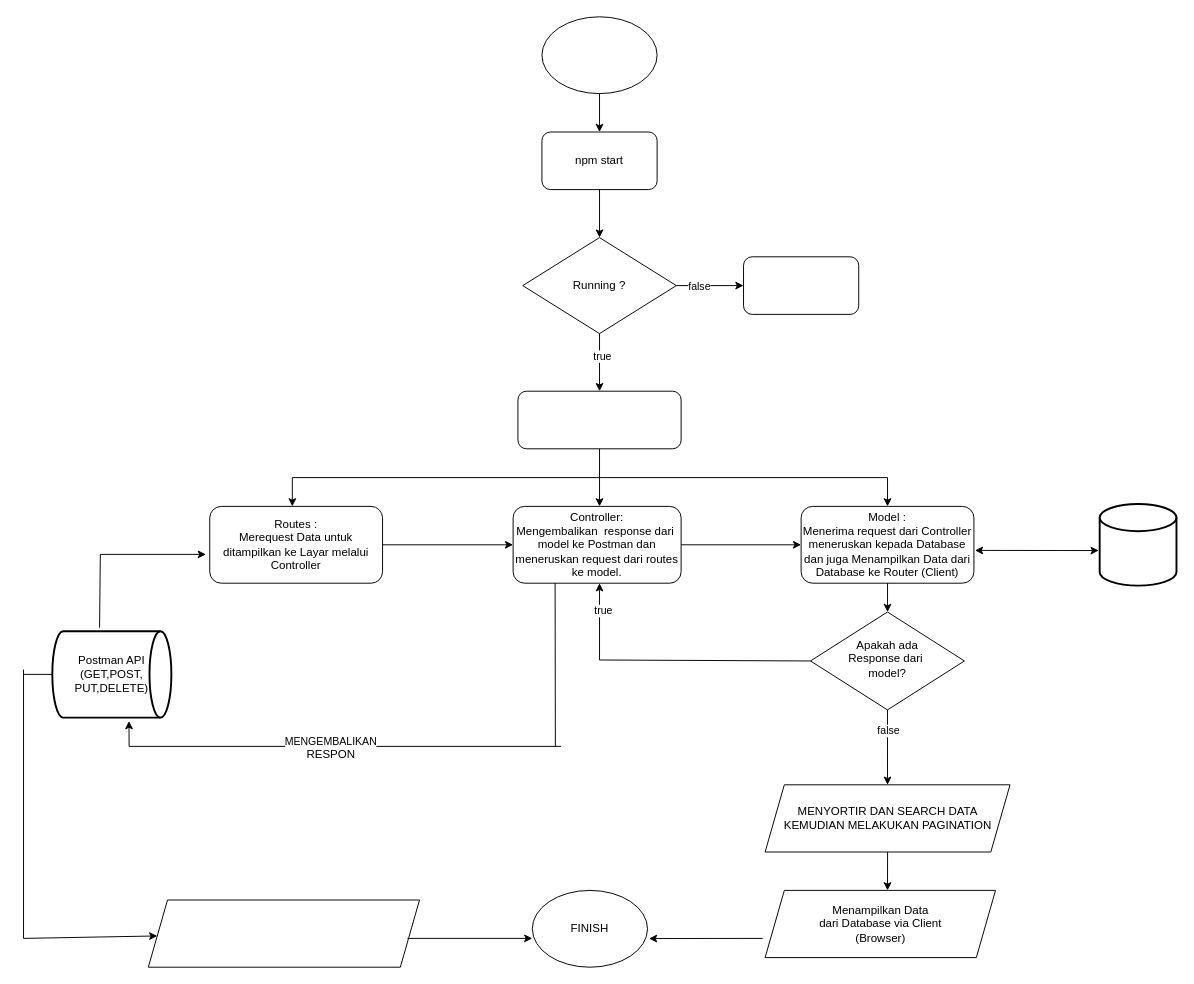
Some shapes in this 1194 by 984 pixel diagram are drawn without their labels. The centre of each missing label's shape, as x and y in pixels:
Database: the point at 1137,544
Error: the point at 801,285
Menampilkan Data Hasil Response dari Database via Postman: the point at 283,933
SERVICE RUNNING PORT Connecting Database: the point at 599,419
START: the point at 599,55
